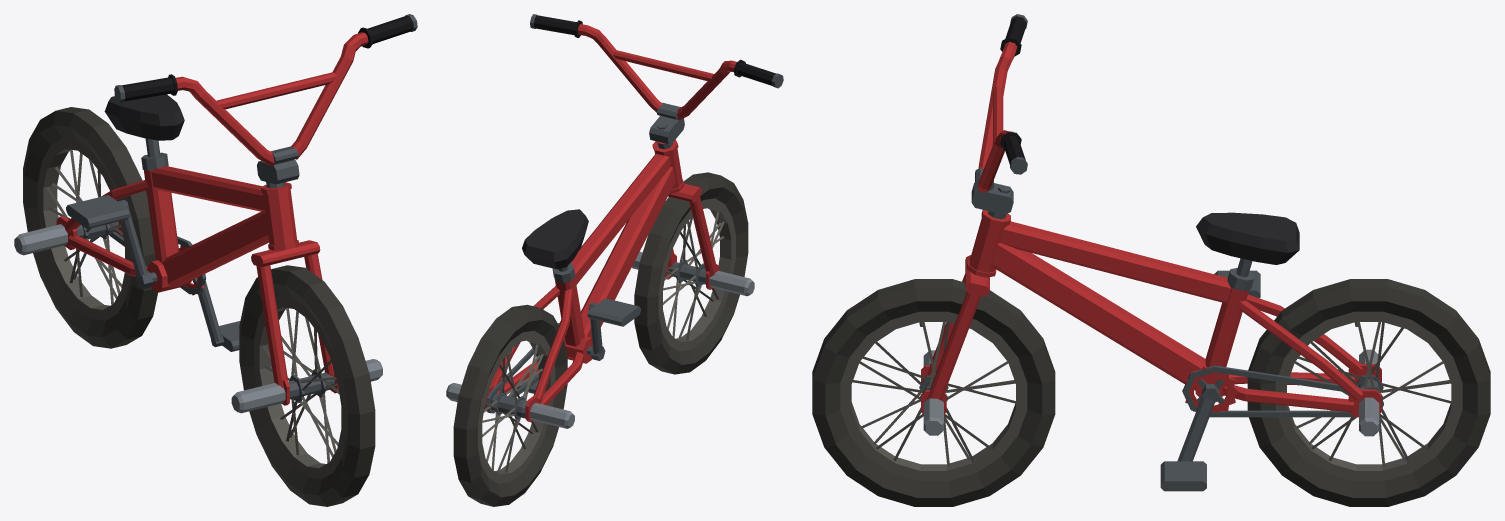
The model's file is freestyle-bmx-ad7d9a.glb.
The picture shows the model from 3 angles, left to right: view 1: azimuth 30°, elevation 25°; view 2: azimuth 150°, elevation 25°; view 3: azimuth 270°, elevation 25°; orthographic projection. The views are drawn at different scales.
Visible parts, largest first — view 1: wheel-front-mesh, frame, wheel-rear-mesh, steer-mesh, cranks-mesh; view 2: frame, wheel-front-mesh, wheel-rear-mesh, steer-mesh, cranks-mesh; view 3: frame, wheel-front-mesh, wheel-rear-mesh, steer-mesh, cranks-mesh.
Boxes of the visible parts, box(x1,y1,x2,y2) form: wheel-front-mesh: box(239, 265, 375, 506); frame: box(14, 94, 298, 294); wheel-rear-mesh: box(23, 107, 157, 348); steer-mesh: box(114, 14, 417, 413); cranks-mesh: box(66, 195, 240, 351); frame: box(446, 139, 684, 428); wheel-front-mesh: box(634, 172, 748, 374); wheel-rear-mesh: box(453, 304, 567, 506); steer-mesh: box(530, 14, 783, 296); cranks-mesh: box(516, 298, 640, 393); frame: box(967, 210, 1383, 436); wheel-front-mesh: box(812, 279, 1055, 506); wheel-rear-mesh: box(1247, 279, 1490, 506); steer-mesh: box(921, 14, 1027, 435); cranks-mesh: box(1160, 270, 1260, 491).
Bounding box in the file's own units: 0.7292 × 0.9752 × 1.43.
